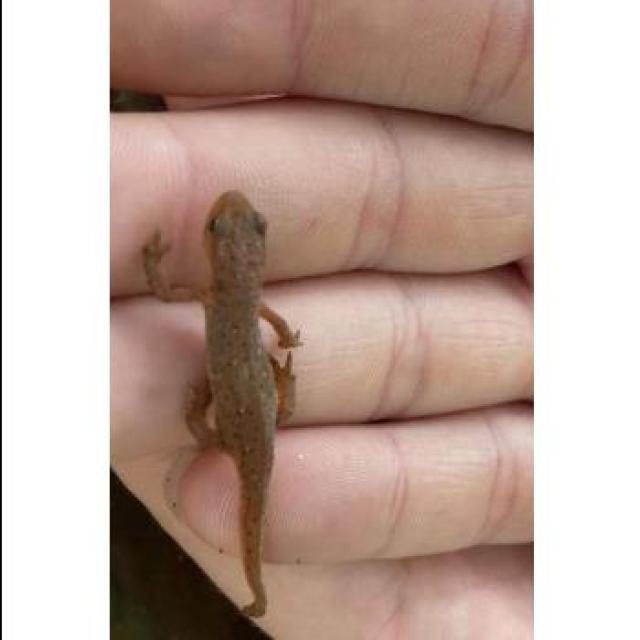Lizard: (141, 188, 303, 624)
